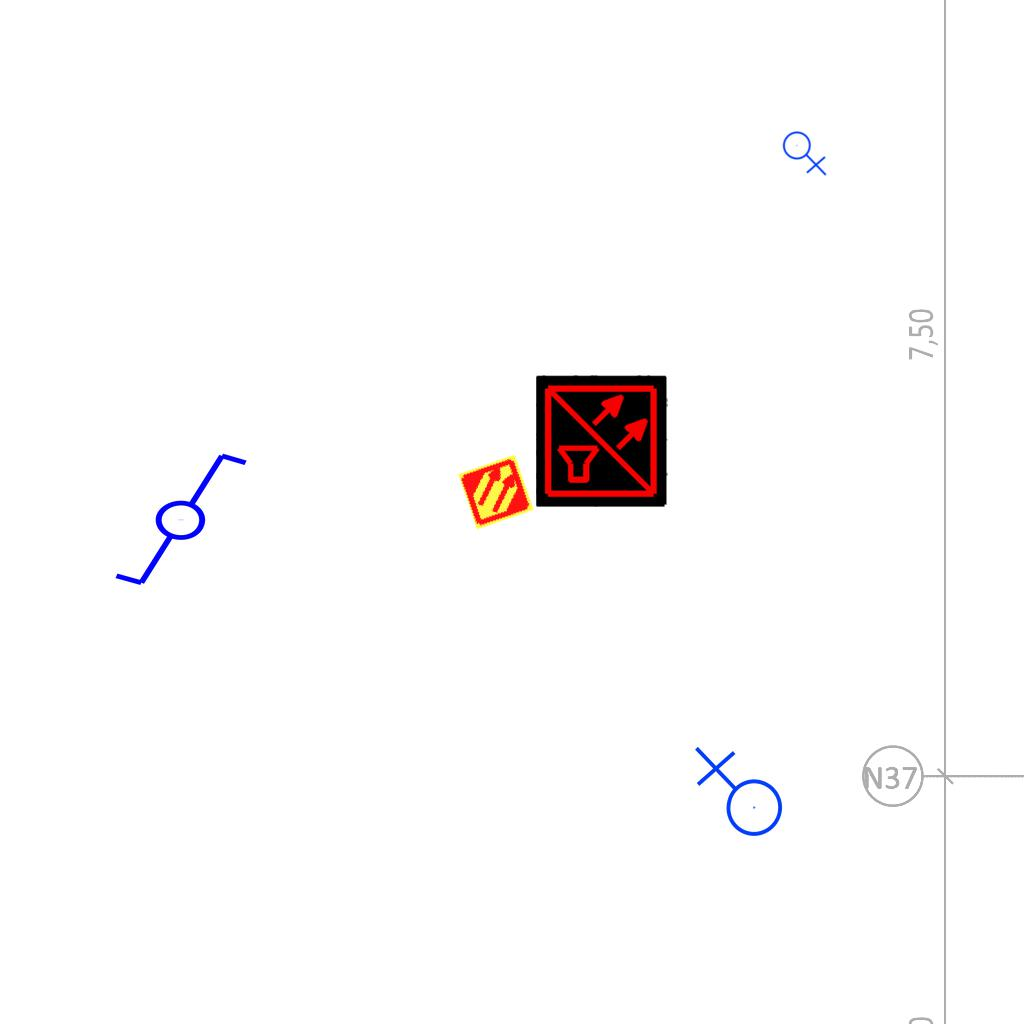ASR_Ansaugrauchmelder: (456, 452, 536, 532)
Elektroanschluss_allgemein_230V_Geraeteanschlussdose_230V: (690, 746, 784, 845), (782, 127, 829, 176)
OKW_Multisensormelder_(Kombination_optischer_Rauch-Kahlenmonoxid_Waerme-Melder): (536, 375, 668, 507)
Wechselschalter: (94, 446, 251, 590)
